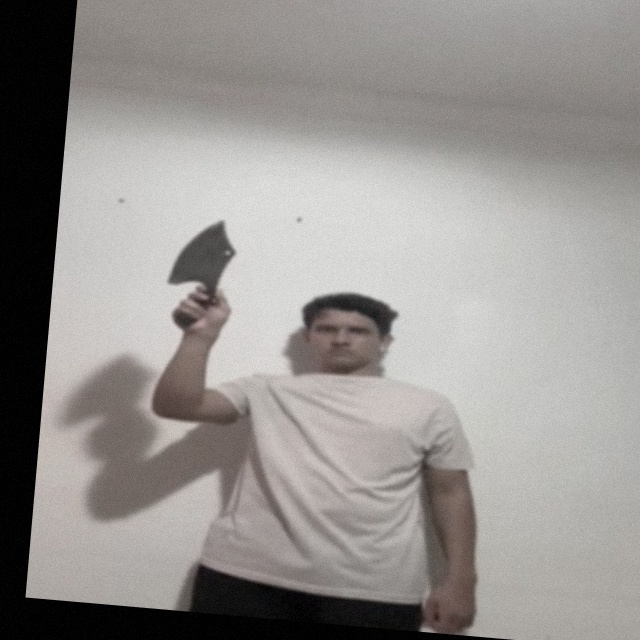Sharp-Object: (166, 214, 242, 291)
